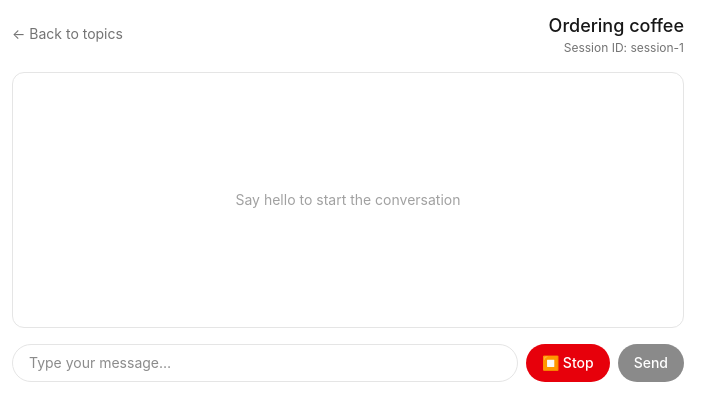
ChatRoom › stops recording, uploads the audio, then shows the transcript and the tutor reply
What coordinates should you click on to do the following:
click the button "⏹️ Stop"
I would click on:
 (568, 363)
Its box is [526,344,610,382].
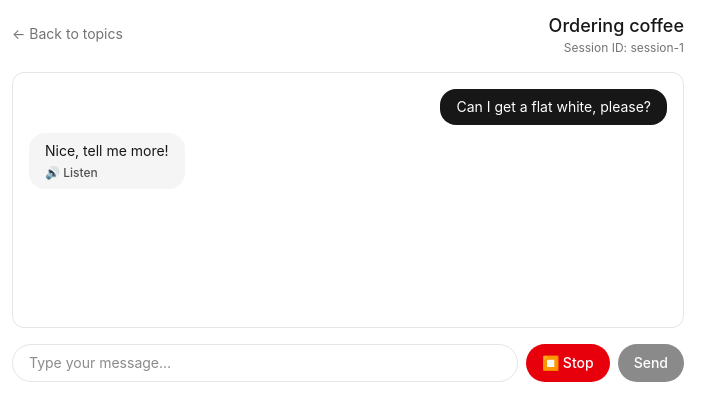
Expected: the text "Can I get a flat white, please?" is shown, [440,89,667,125]
Expected: the text "Nice, tell me more!" is shown, [45,142,169,159]
Expected: the button "🔊 Listen" is shown, [45,165,98,181]
